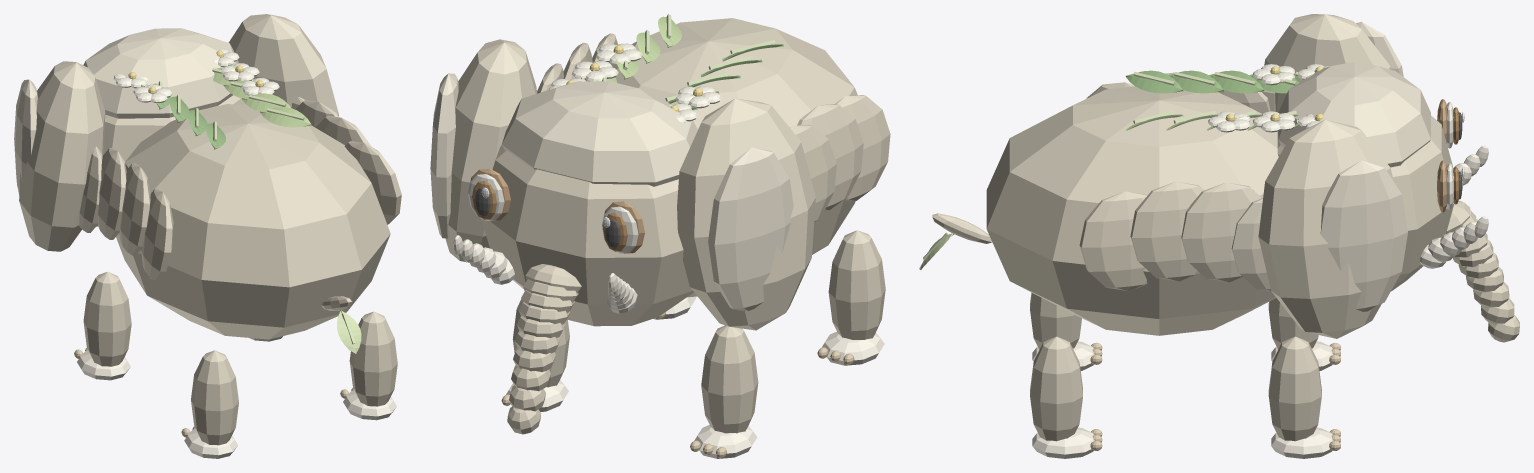
Rendered from RockElephant_A_S3.glb.
The picture shows the model from 3 angles, left to right: view 1: azimuth 30°, elevation 25°; view 2: azimuth 150°, elevation 25°; view 3: azimuth 270°, elevation 25°; orthographic projection. The views are drawn at different scales.
Visible parts, largest first — view 1: Body, LeftEar, Static_DBCDAA, RightEar, Static_C5B492, LeftFrontLeg, LeftBackLeg, RightBackLeg, Static_C1B190, Static_BDAE8E, Static_FAF3D7, Static_C4B593 (+9 smaller); view 2: Static_C4B593, Static_DBCDAA, LeftEar, Body, LeftEar_E6D6B3, RightEar, LeftBackLeg, LeftFrontLeg, Static_C1B190, RightEar_E6D6B3, Static_C5B492, Static_BDAE8E (+13 smaller); view 3: Body, RightEar, Static_DBCDAA, Static_C4B593, RightEar_E6D6B3, Static_BDAE8E, Static_C5B492, Static_C1B190, LeftEar, RightFrontLeg, RightBackLeg, Static_598541 (+12 smaller).
Part boxes in pixels (box(x1,y1,x2,y2)): Body: box(116, 104, 390, 339); LeftEar: box(19, 61, 105, 251); Static_DBCDAA: box(83, 28, 238, 118); RightEar: box(228, 14, 338, 116); Static_C5B492: box(141, 141, 401, 280); LeftFrontLeg: box(83, 271, 131, 366); LeftBackLeg: box(191, 350, 238, 445); RightBackLeg: box(349, 311, 397, 406); Static_C1B190: box(119, 116, 371, 255); Static_BDAE8E: box(97, 100, 338, 239); Static_FAF3D7: box(113, 48, 279, 102); Static_C4B593: box(96, 95, 247, 226); Static_C4B593: box(481, 145, 693, 434); Static_DBCDAA: box(501, 81, 697, 186); LeftEar: box(677, 98, 815, 330); Body: box(585, 18, 857, 297); LeftEar_E6D6B3: box(708, 147, 793, 310); RightEar: box(445, 39, 537, 262); LeftBackLeg: box(828, 230, 885, 339); LeftFrontLeg: box(701, 325, 758, 433); Static_C1B190: box(563, 42, 863, 210); RightEar_E6D6B3: box(430, 73, 458, 238); Static_C5B492: box(592, 33, 890, 201); Static_BDAE8E: box(537, 63, 836, 221); Body: box(986, 86, 1278, 335); RightEar: box(1258, 120, 1393, 338); Static_DBCDAA: box(1278, 62, 1430, 167); Static_C4B593: box(1277, 115, 1519, 342); RightEar_E6D6B3: box(1320, 160, 1407, 311); Static_BDAE8E: box(1181, 75, 1270, 282); Static_C5B492: box(1079, 82, 1147, 291); Static_C1B190: box(1130, 72, 1203, 281); LeftEar: box(1264, 14, 1391, 112); RightFrontLeg: box(1268, 336, 1321, 441); RightBackLeg: box(1030, 336, 1082, 441); Static_598541: box(1125, 70, 1314, 93).
Bounding box in the file's own units: 12.7 × 12.58 × 19.89.
